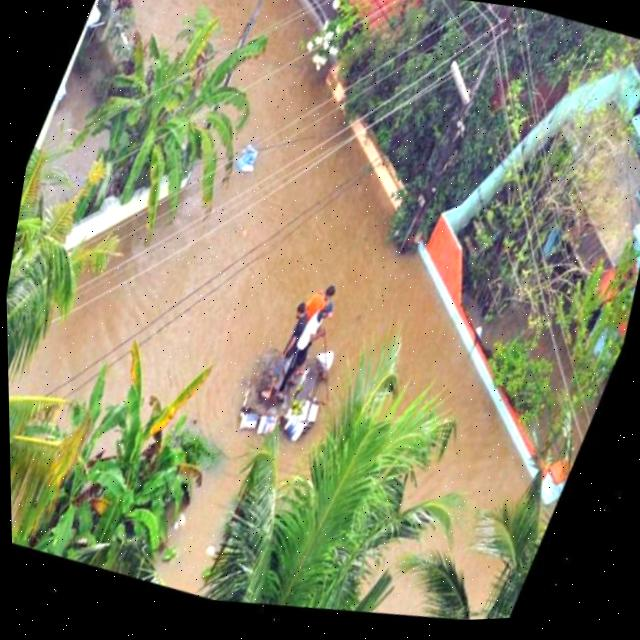civilian: (283, 302, 332, 391), (307, 279, 337, 311), (286, 299, 308, 330)
